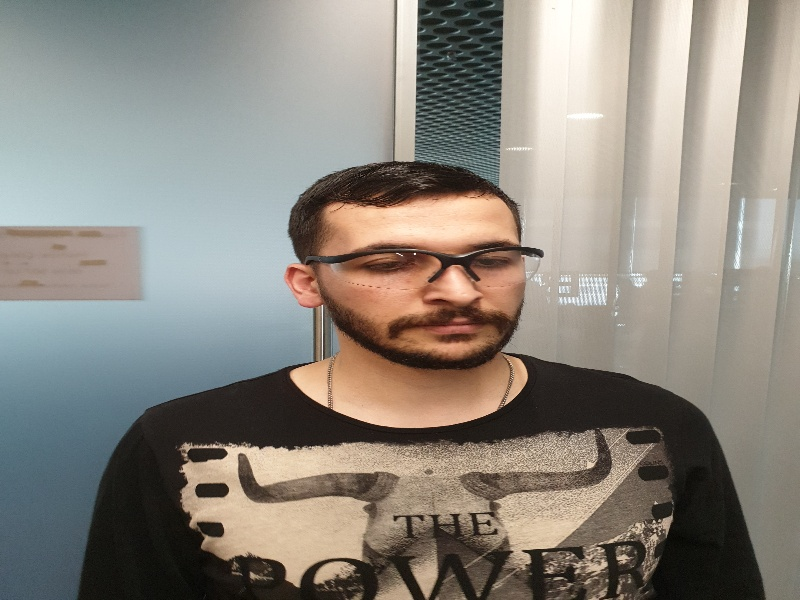Gozluk: (293, 244, 548, 282)
